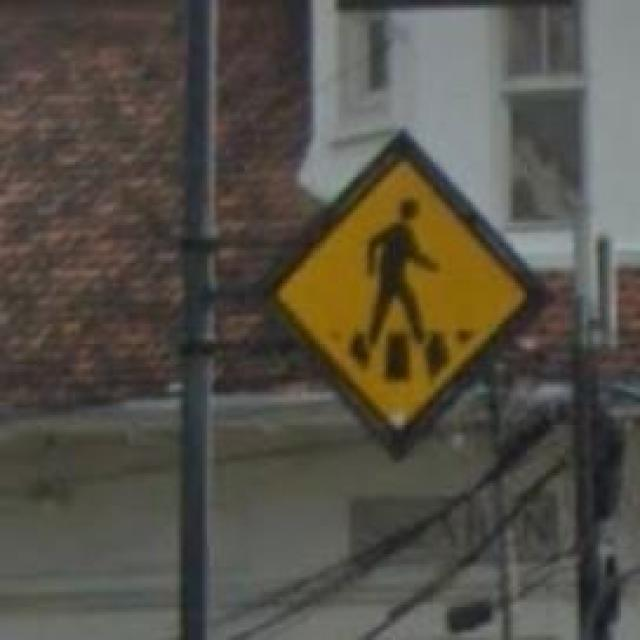traffic sign: (297, 154, 525, 430)
